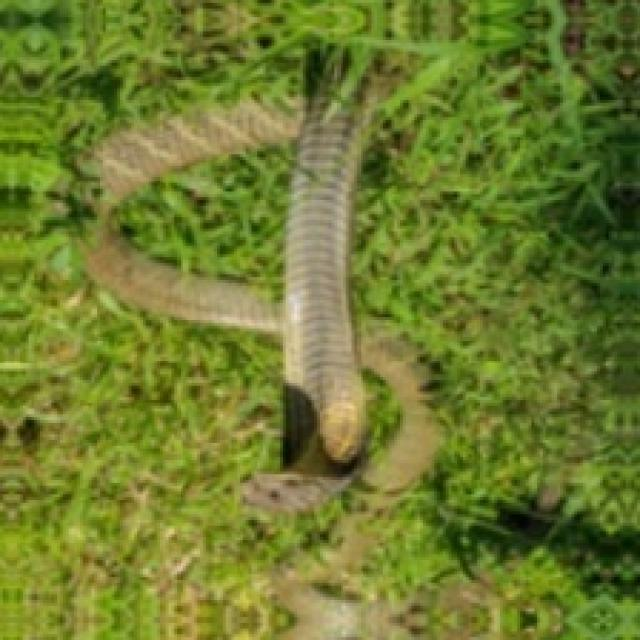king cobra: (86, 43, 394, 466), (109, 134, 297, 309)
